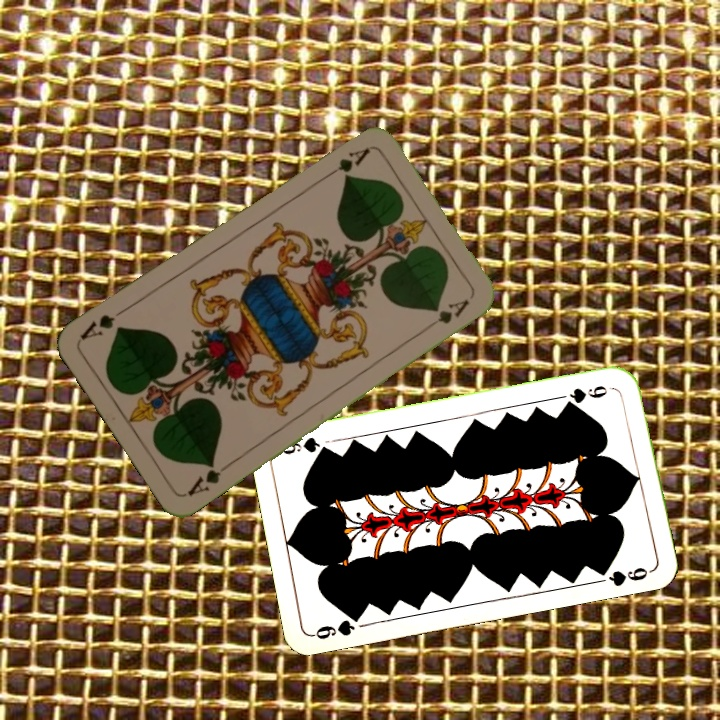G9: (309, 609, 365, 642), (561, 381, 618, 409)
GA: (319, 143, 373, 182), (183, 458, 233, 499)
